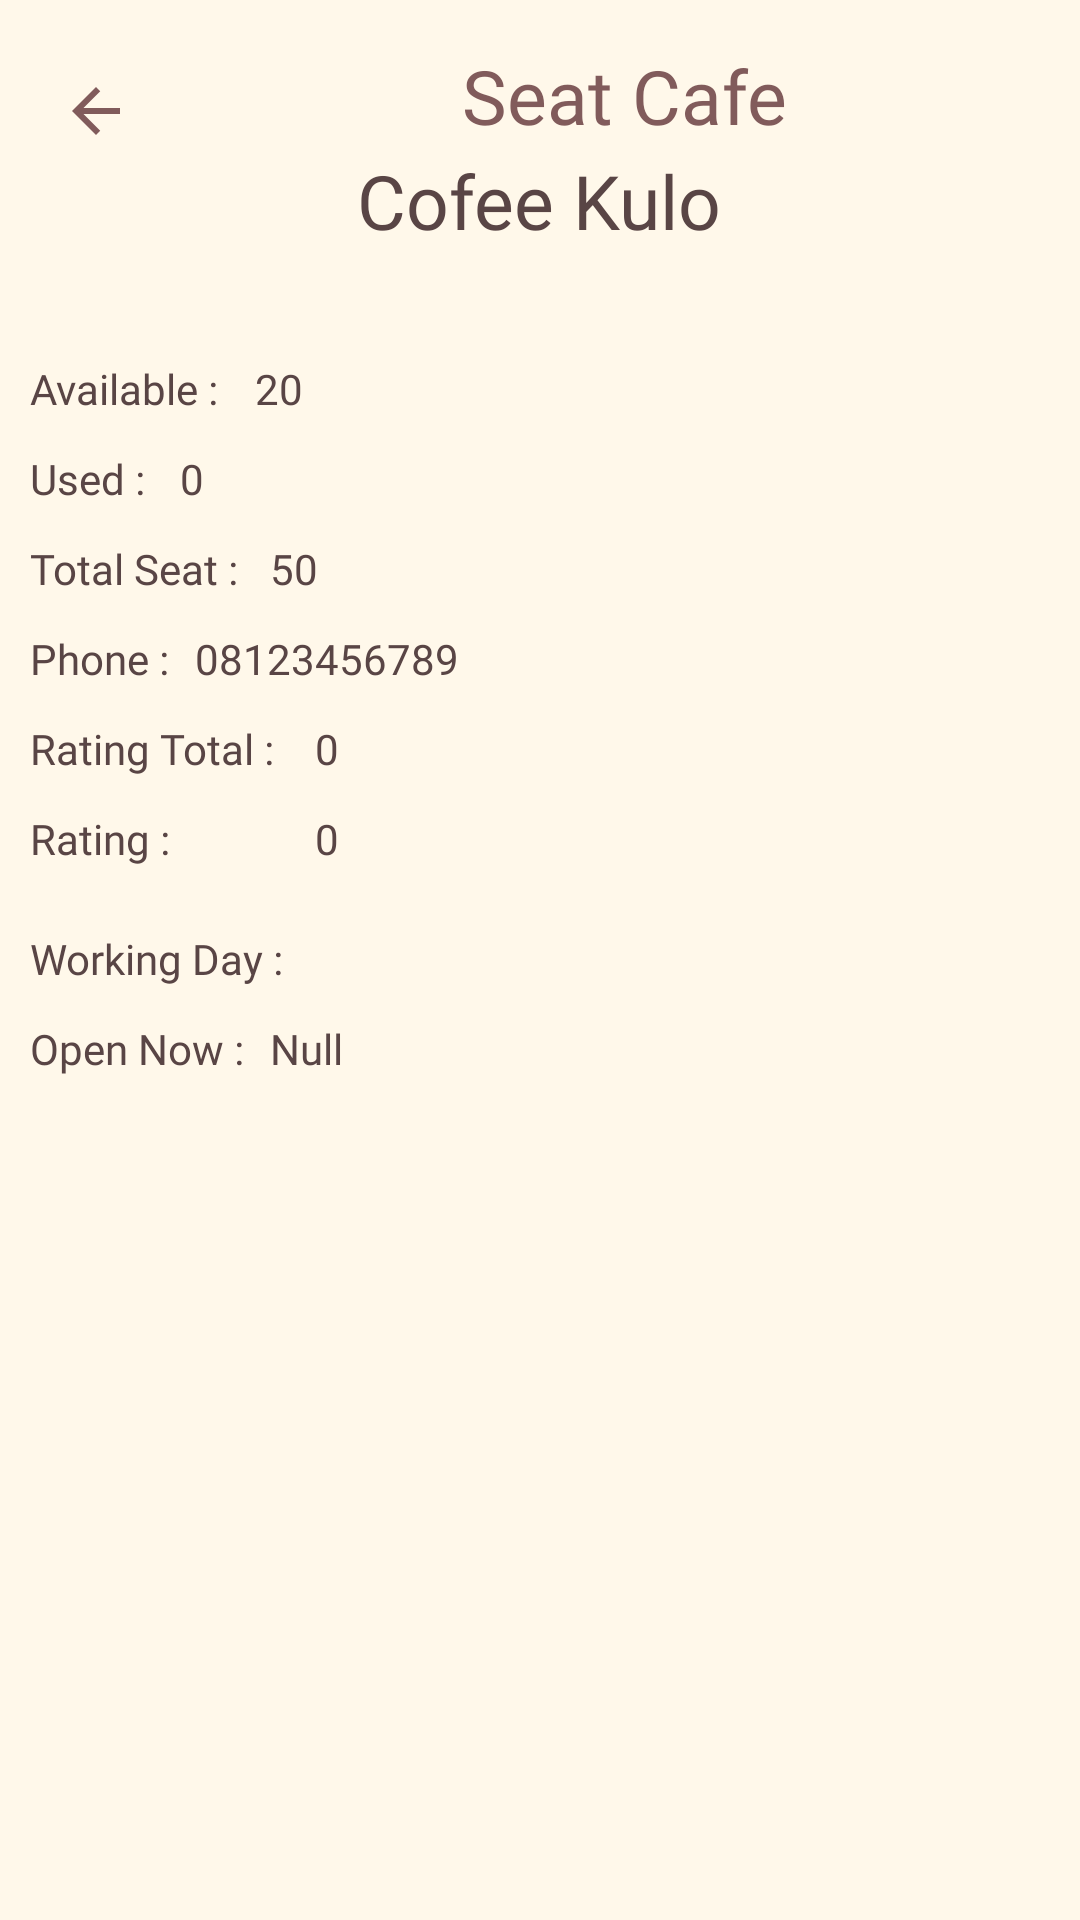

Where to tap for icons on this 1080x1920 app screen, as (x=x, y=y):
back arrow: (x=96, y=111)
